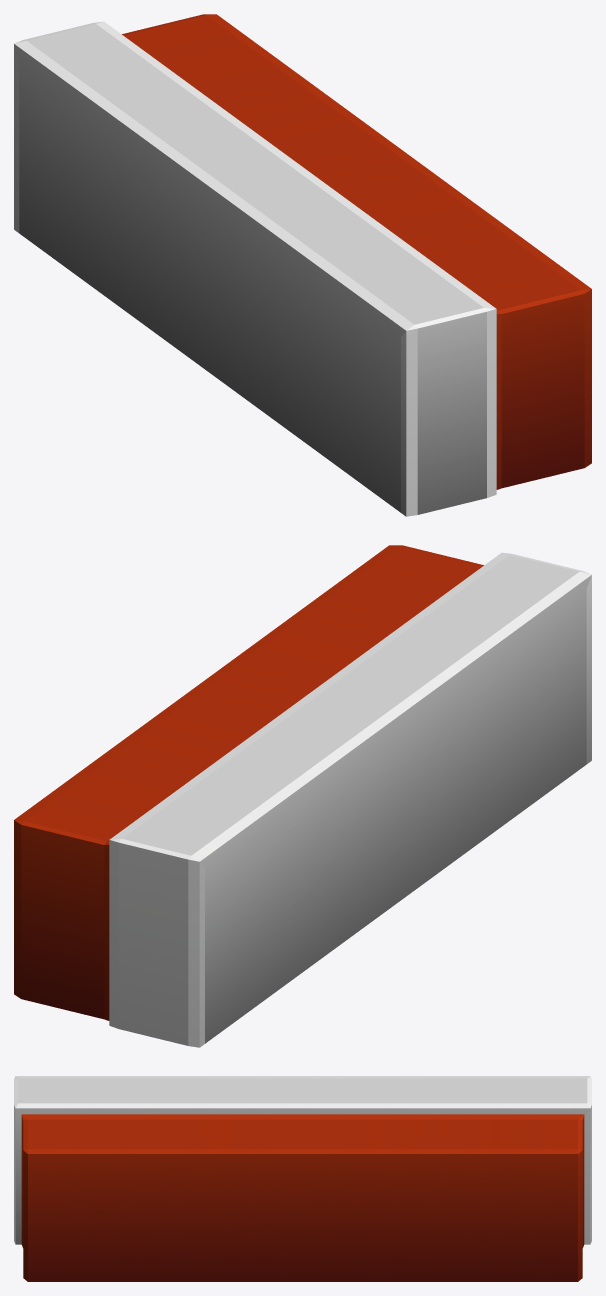
3 views of the same model, one above another, from view 1: azimuth 30°, elevation 25°; view 2: azimuth 150°, elevation 25°; view 3: azimuth 270°, elevation 25° (orthographic). The views are drawn at different scales.
Parts seen in each view (by area): view 1: BedCover; view 2: BedCover; view 3: BedCover.
Boxes of the visible parts, box(x1,y1,x2,y2) form: BedCover: box(14, 14, 591, 516); BedCover: box(14, 545, 591, 1047); BedCover: box(14, 1076, 591, 1281).
Bounding box in the file's own units: 0.614 × 0.5725 × 2.16.
Materials: 1 (1 with a texture image).
